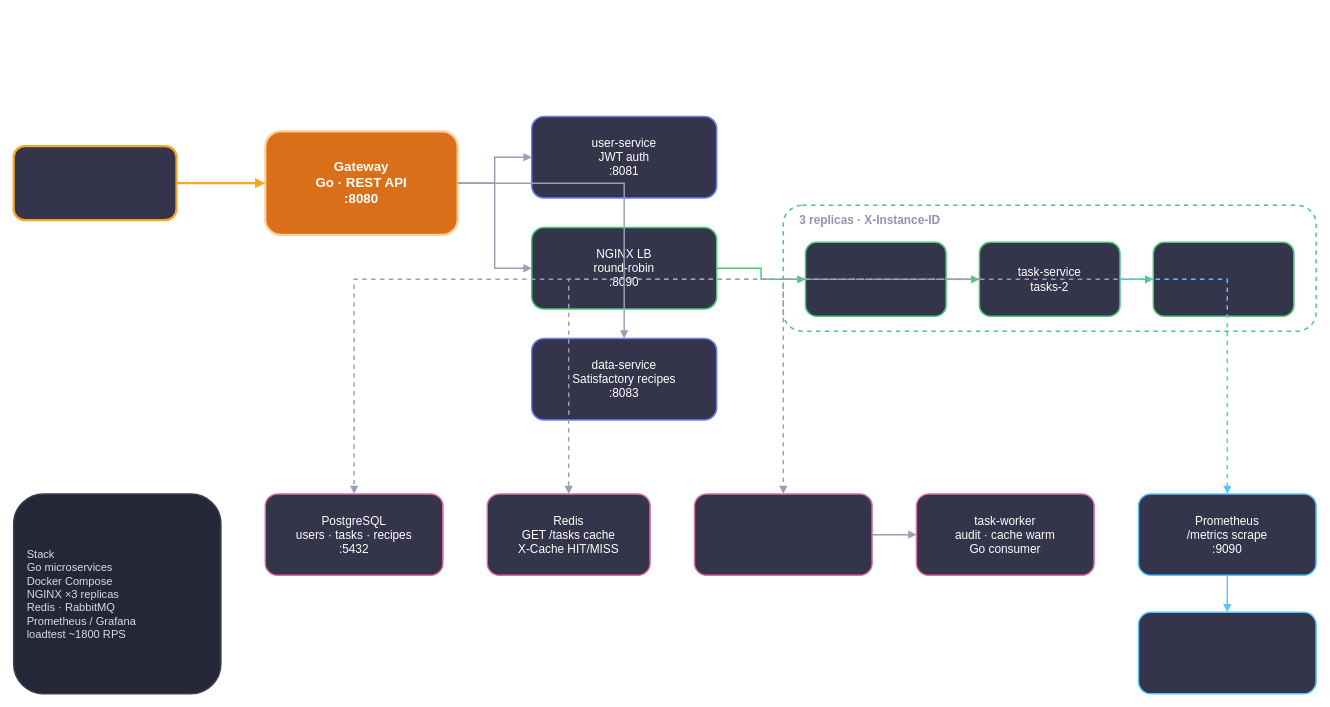
Some shapes in this 1330 by 707 pixel diagram are drawn without their labels. The centre of each missing label's shape, as x and y in pixels:
"Browser React UI" belongs at (x=94, y=183).
"Grafana dashboards :3001" belongs at (x=1226, y=652).
"RabbitMQ fanout task.events :5672" belongs at (x=782, y=534).
"task-service tasks-1" belongs at (x=875, y=279).
"task-service tasks-3" belongs at (x=1223, y=279).
